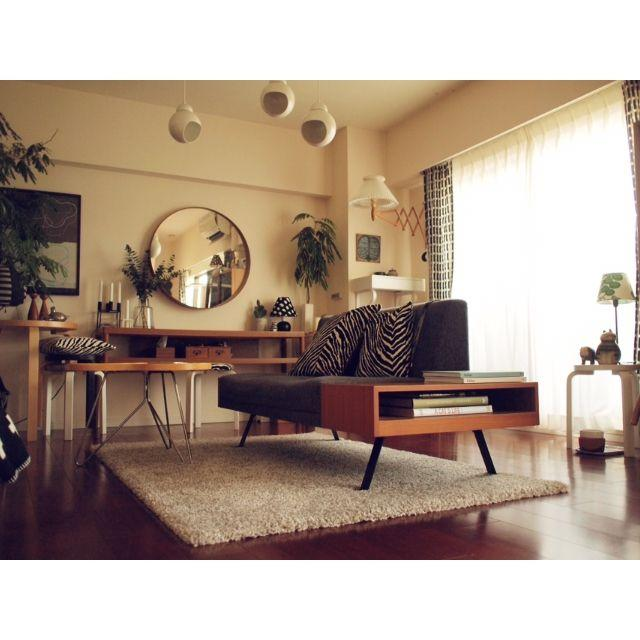vintage sofa: (216, 298, 531, 493)
